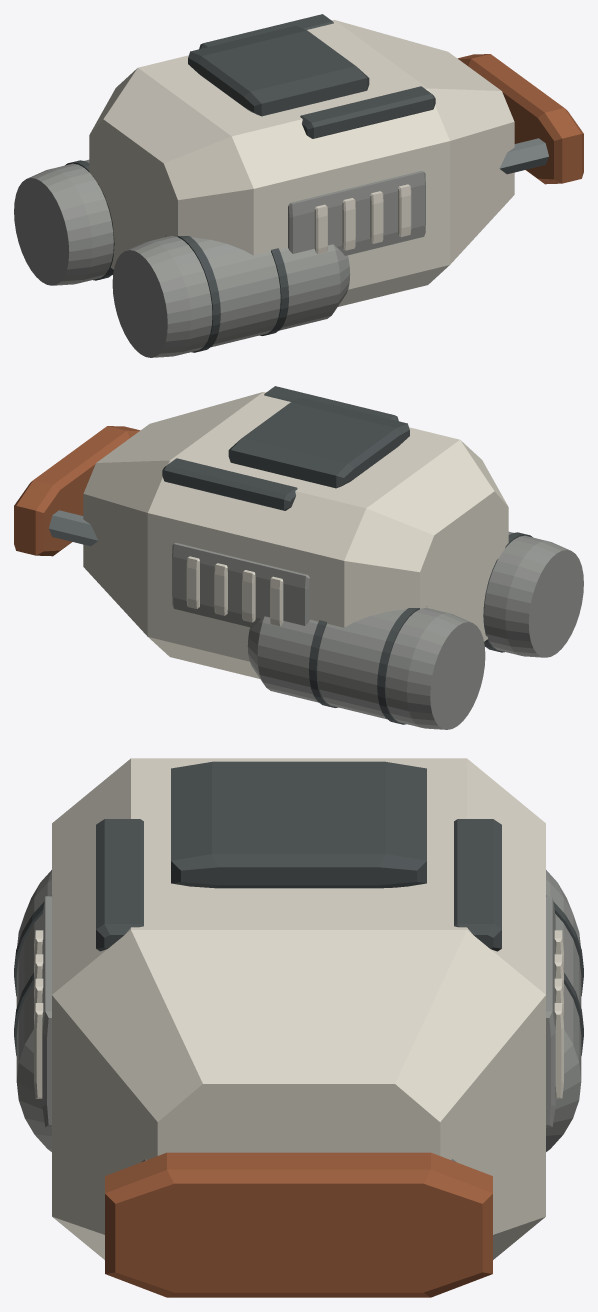
File: tug-v001.glb
3 renders of one model, top to bottom at view 1: azimuth 30°, elevation 25°; view 2: azimuth 150°, elevation 25°; view 3: azimuth 270°, elevation 25°, orthographic. The views are drawn at different scales.
Parts seen in each view (by area): view 1: tug-service-cabin, tug-tow-yoke; view 2: tug-service-cabin, tug-tow-yoke; view 3: tug-service-cabin, tug-tow-yoke.
Boxes of the visible parts, x1,y1,x2,y2 form: tug-service-cabin: (14,14,514,357); tug-tow-yoke: (65,25,583,352); tug-service-cabin: (83,386,583,729); tug-tow-yoke: (14,397,532,724); tug-service-cabin: (16,758,581,1259); tug-tow-yoke: (14,761,583,1297).
Size of the model in its own units: 10.35 by 4.84 by 6.46.
1 material, 1 textured.
